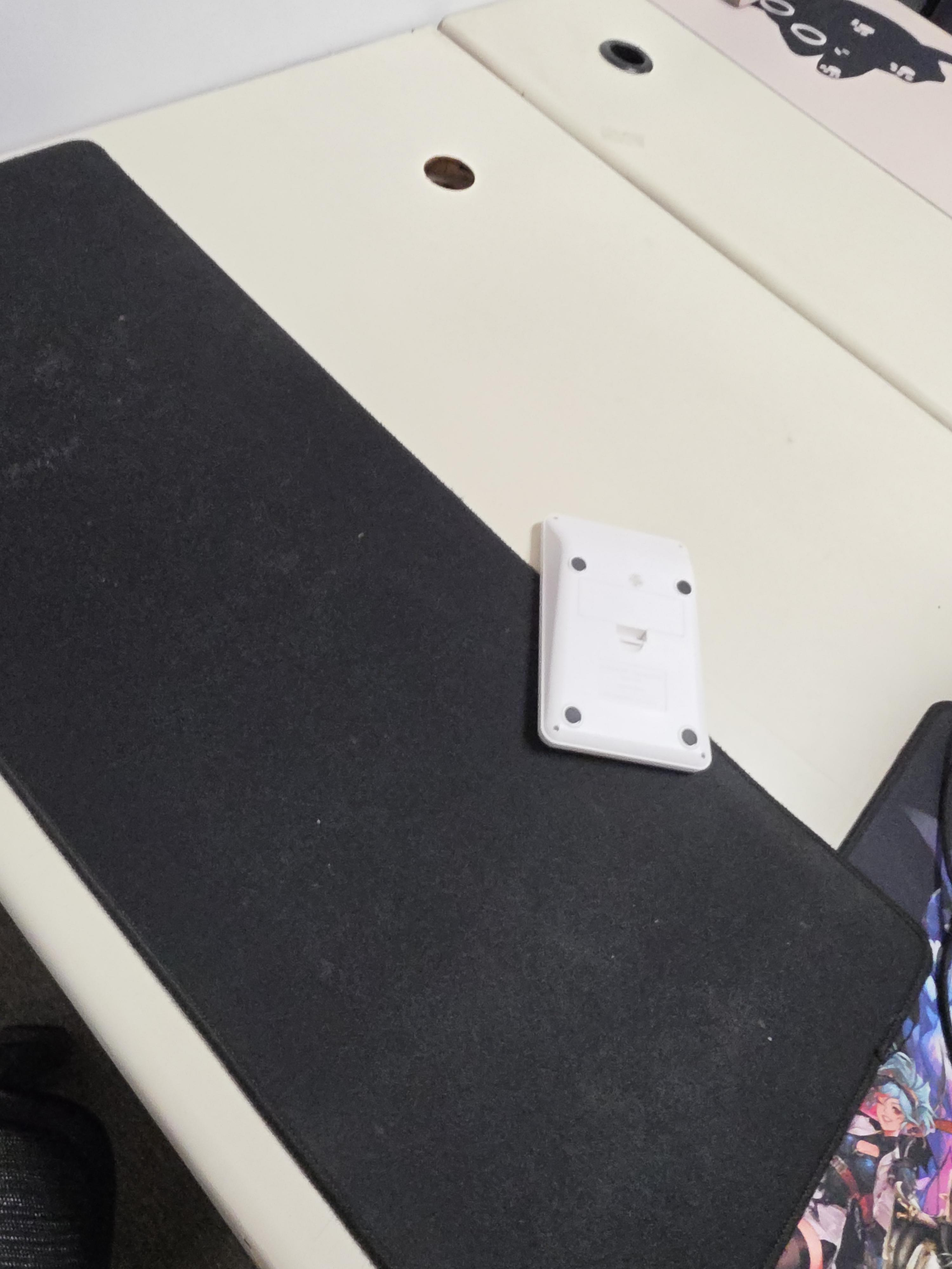calculator: (531, 514, 713, 773)
